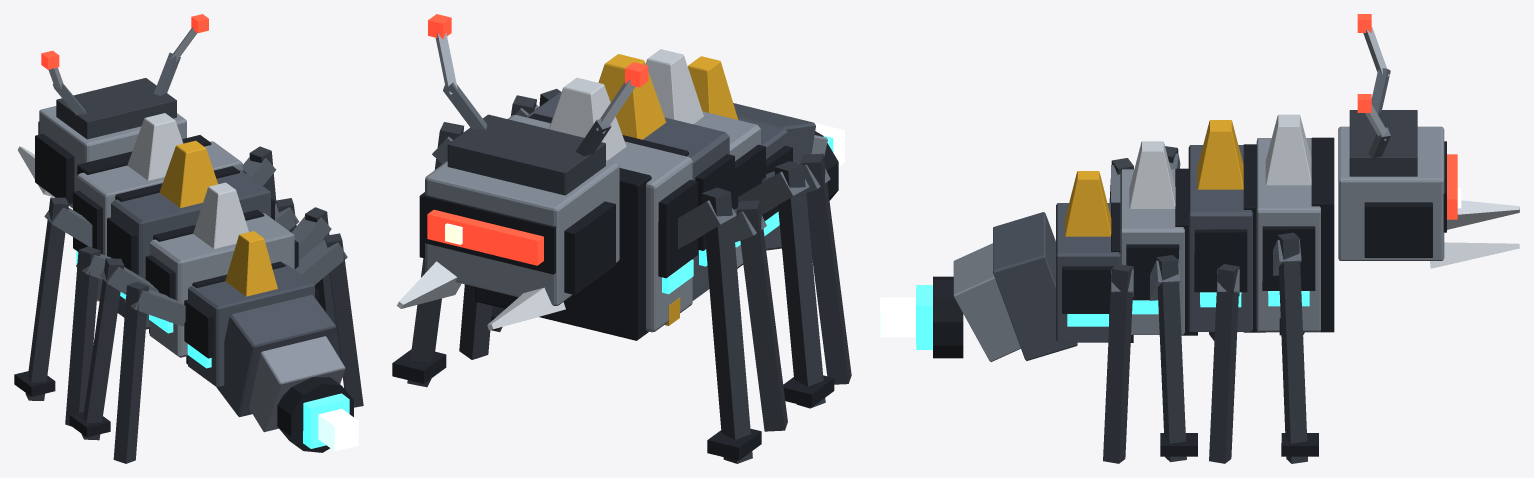
The model's file is mecha-crawler.glb.
3 renders of one model, left to right at view 1: azimuth 30°, elevation 25°; view 2: azimuth 150°, elevation 25°; view 3: azimuth 270°, elevation 25°, orthographic. The views are drawn at different scales.
Visible parts, largest first — view 1: body, tail, head, leg.FR, leg.BR, leg.BL, ear.L, leg.FL, ear.R; view 2: body, head, leg.FR, leg.BR, leg.FL, tail, ear.L, ear.R, leg.BL; view 3: body, head, tail, leg.FL, leg.BL, ear.R, ear.L.
Part boxes in pixels (bbox=[...]): body: bbox=[65, 113, 363, 463]; tail: bbox=[216, 295, 358, 452]; head: bbox=[18, 78, 186, 208]; leg.FR: bbox=[14, 197, 92, 400]; leg.BR: bbox=[69, 258, 158, 440]; leg.BL: bbox=[291, 207, 340, 358]; ear.L: bbox=[153, 14, 208, 95]; leg.FL: bbox=[243, 146, 276, 204]; ear.R: bbox=[41, 50, 86, 115]; body: bbox=[459, 49, 851, 431]; head: bbox=[396, 114, 619, 330]; leg.FR: bbox=[678, 187, 761, 463]; leg.BR: bbox=[738, 161, 834, 408]; leg.FL: bbox=[392, 122, 463, 387]; tail: bbox=[733, 103, 844, 250]; ear.L: bbox=[428, 14, 487, 129]; ear.R: bbox=[575, 62, 648, 156]; leg.BL: bbox=[490, 95, 538, 331]; body: bbox=[1056, 114, 1334, 463]; head: bbox=[1338, 110, 1519, 268]; tail: bbox=[880, 212, 1077, 361]; leg.FL: bbox=[1273, 232, 1318, 463]; leg.BL: bbox=[1150, 255, 1197, 462]; ear.R: bbox=[1357, 14, 1390, 114]; ear.L: bbox=[1357, 94, 1390, 158].
Bounding box in the file's own units: 0.8816 × 1 × 1.69.
